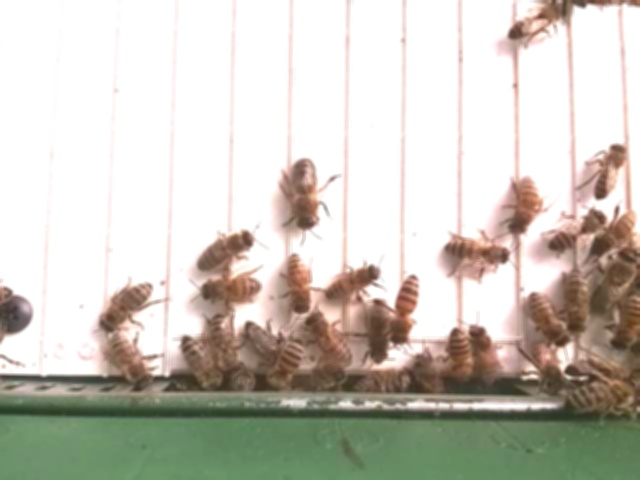Drone: (286, 155, 323, 233)
Worker: (97, 278, 159, 333), (545, 206, 610, 252), (198, 224, 257, 274), (527, 288, 571, 350), (306, 309, 354, 364), (505, 170, 542, 236), (326, 262, 385, 302), (591, 139, 630, 198), (107, 331, 151, 383), (468, 322, 503, 387), (178, 334, 220, 388), (392, 272, 423, 344), (199, 272, 264, 306), (444, 236, 513, 268), (271, 333, 308, 389), (365, 295, 394, 364), (209, 310, 241, 371), (564, 263, 590, 337), (286, 247, 314, 314)
